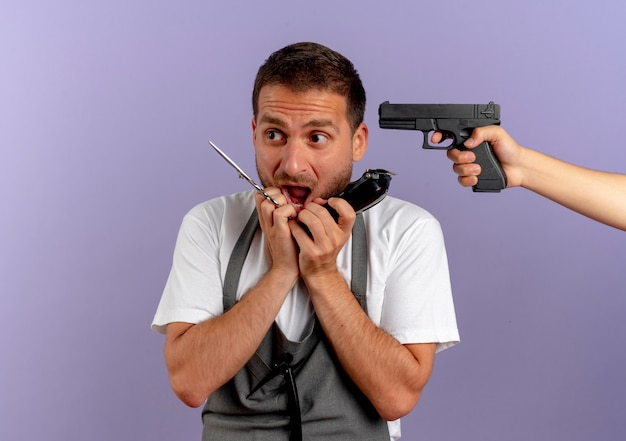gun: (376, 98, 508, 195)
